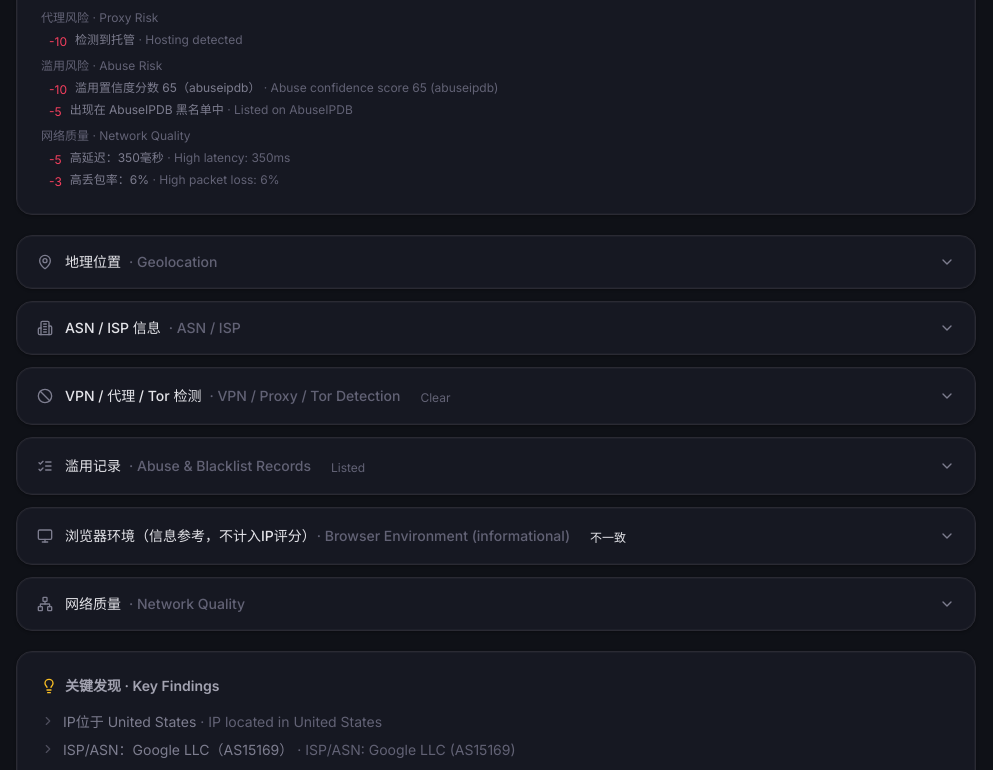
Scenario: IpCheckPage › shows proxy detection details when proxy section is expanded
(page scrolled)
Click the button "VPN / 代理 / Tor 检测· VPN / Proxy / Tor Detection Clear" at (133, 396), box [17, 368, 975, 424]
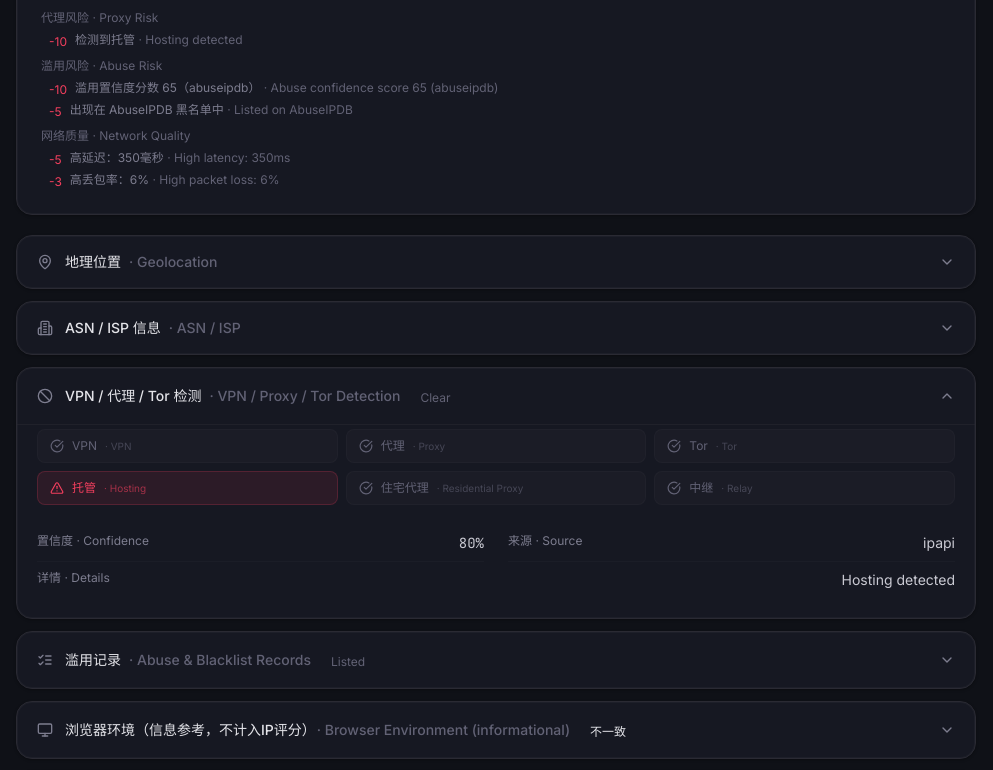
Result: the text "置信度" is shown at [37, 533, 73, 548]
